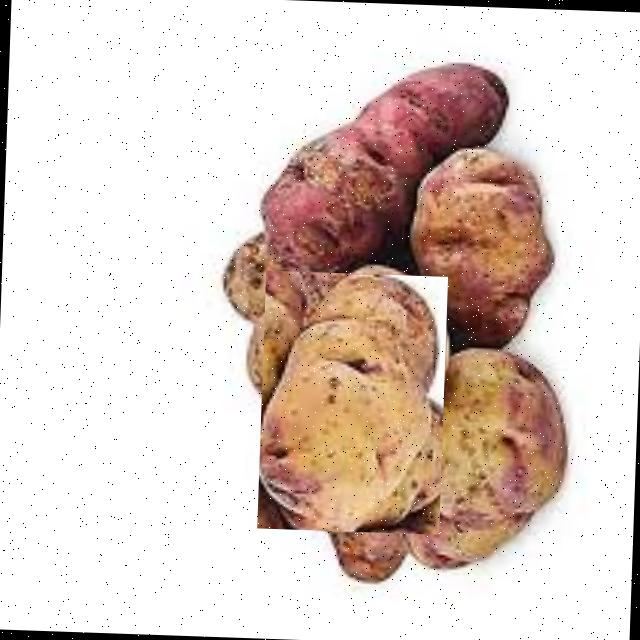Damaged potato: (260, 43, 510, 291), (256, 269, 448, 533), (386, 332, 569, 582), (389, 150, 556, 369)
